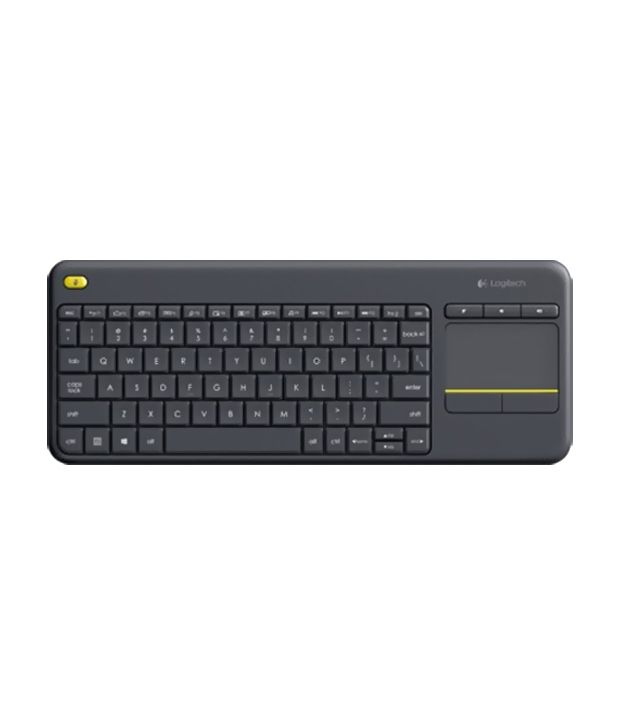logitech-keyboard-k400: (47, 256, 573, 468)
